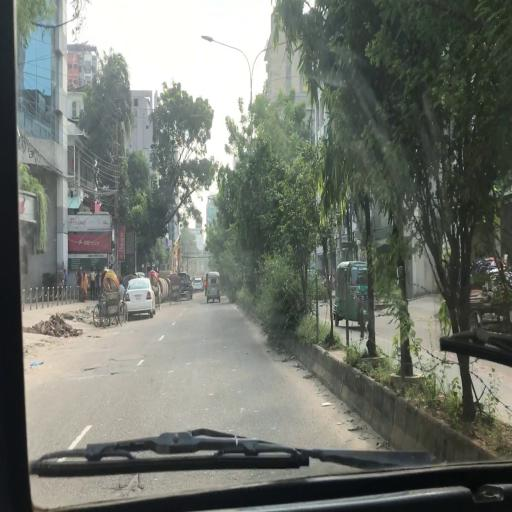car: (126, 278, 156, 320)
rickshaw: (103, 273, 128, 327), (94, 271, 107, 330), (169, 273, 183, 305), (151, 271, 162, 308)
suv: (181, 273, 194, 301), (194, 279, 204, 291)
three wheelers (CNG): (335, 265, 369, 332), (207, 274, 222, 301)
